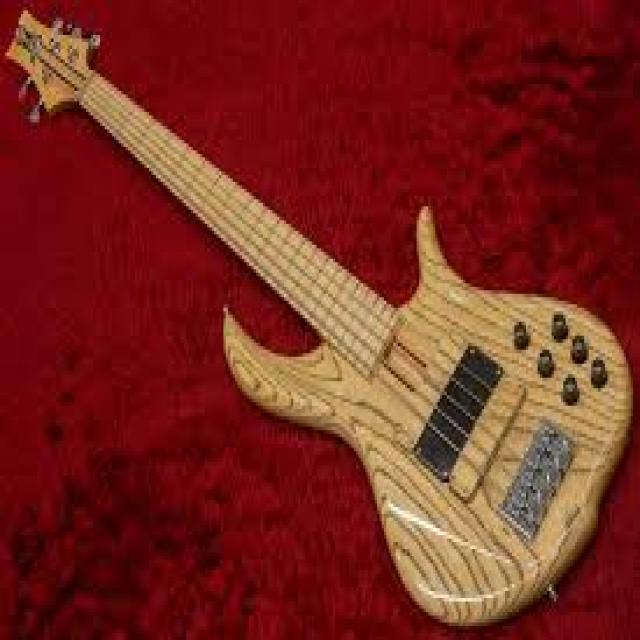bass: (8, 12, 631, 624)
